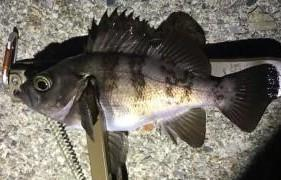fish: (14, 6, 280, 148)
